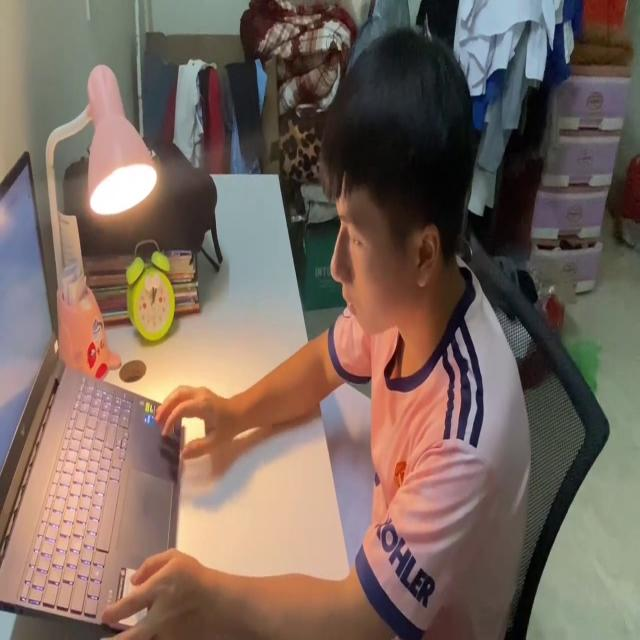book: (320, 377, 378, 563)
laptop: (2, 144, 182, 640)
student: (102, 19, 527, 640)
